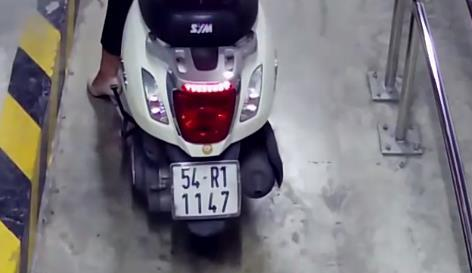lisence: (171, 159, 242, 219)
